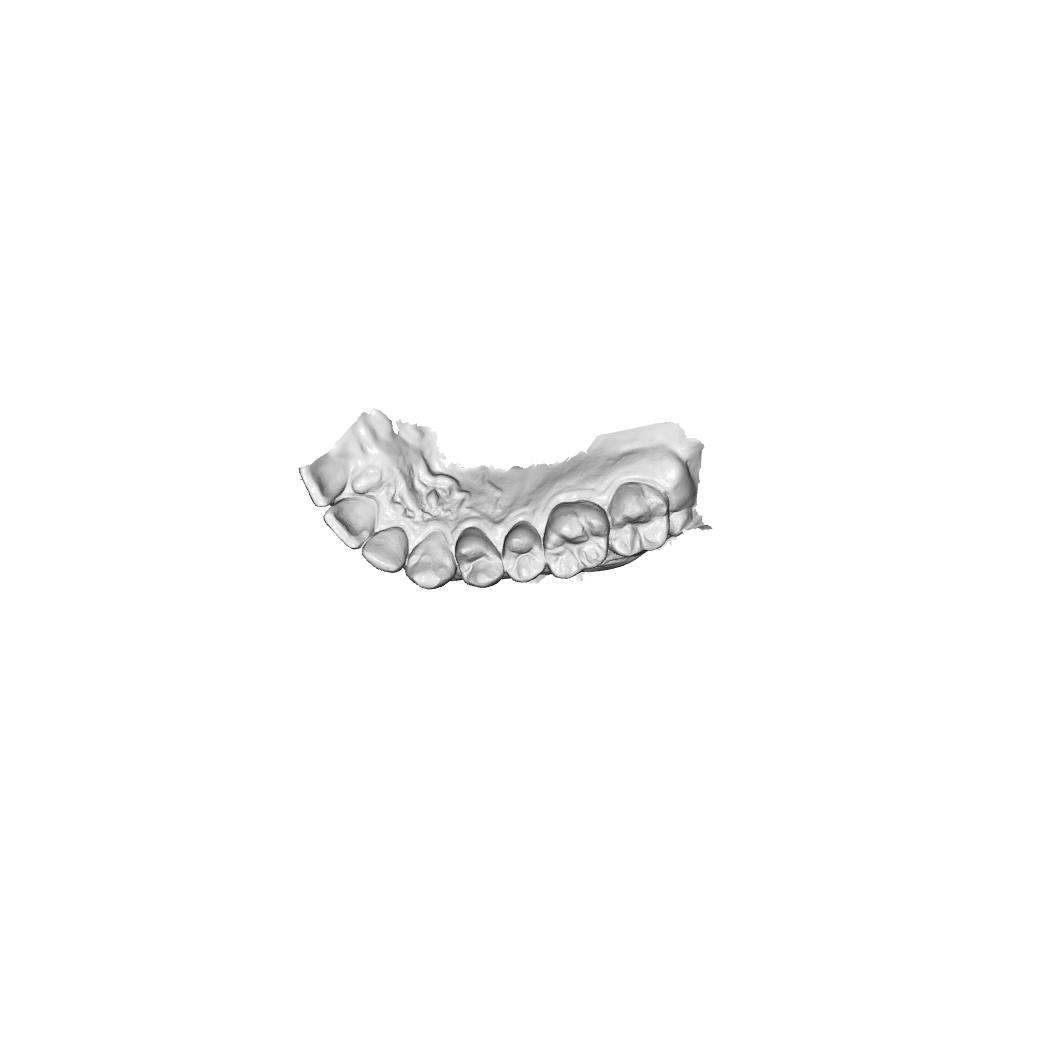canine: (404, 529, 458, 591)
incisor: (322, 494, 379, 550), (298, 452, 349, 508), (361, 526, 409, 575)
molar: (542, 499, 610, 580), (607, 481, 671, 558)
premolar: (454, 526, 504, 589), (502, 520, 546, 584)
